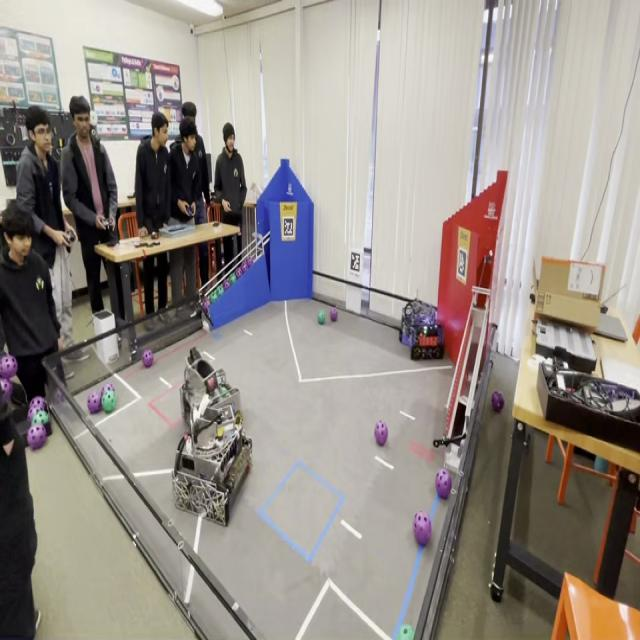artifact_green: (28, 396, 47, 424), (102, 390, 116, 413), (30, 396, 47, 413), (594, 457, 609, 474), (31, 411, 49, 425), (396, 625, 414, 639), (101, 383, 114, 399), (142, 350, 153, 368), (201, 298, 210, 315), (206, 376, 216, 391), (318, 310, 325, 324), (235, 267, 243, 279), (209, 291, 217, 303), (223, 279, 231, 290), (216, 285, 223, 297), (218, 386, 227, 395), (211, 291, 218, 302), (229, 273, 236, 284), (246, 256, 253, 267), (216, 290, 224, 299), (242, 261, 248, 273), (216, 290, 223, 299), (212, 287, 217, 293)
artifact_purple: (414, 511, 431, 546), (29, 396, 47, 421), (28, 425, 46, 450), (436, 469, 451, 498), (0, 355, 17, 379), (0, 379, 13, 402), (375, 421, 387, 445), (88, 392, 101, 414), (492, 392, 504, 413), (28, 406, 41, 424), (31, 412, 49, 425), (101, 383, 115, 398), (142, 350, 153, 368), (54, 389, 63, 404), (202, 299, 210, 314), (330, 307, 337, 322), (246, 256, 253, 269), (236, 267, 243, 278), (241, 261, 247, 273), (224, 279, 230, 290)
